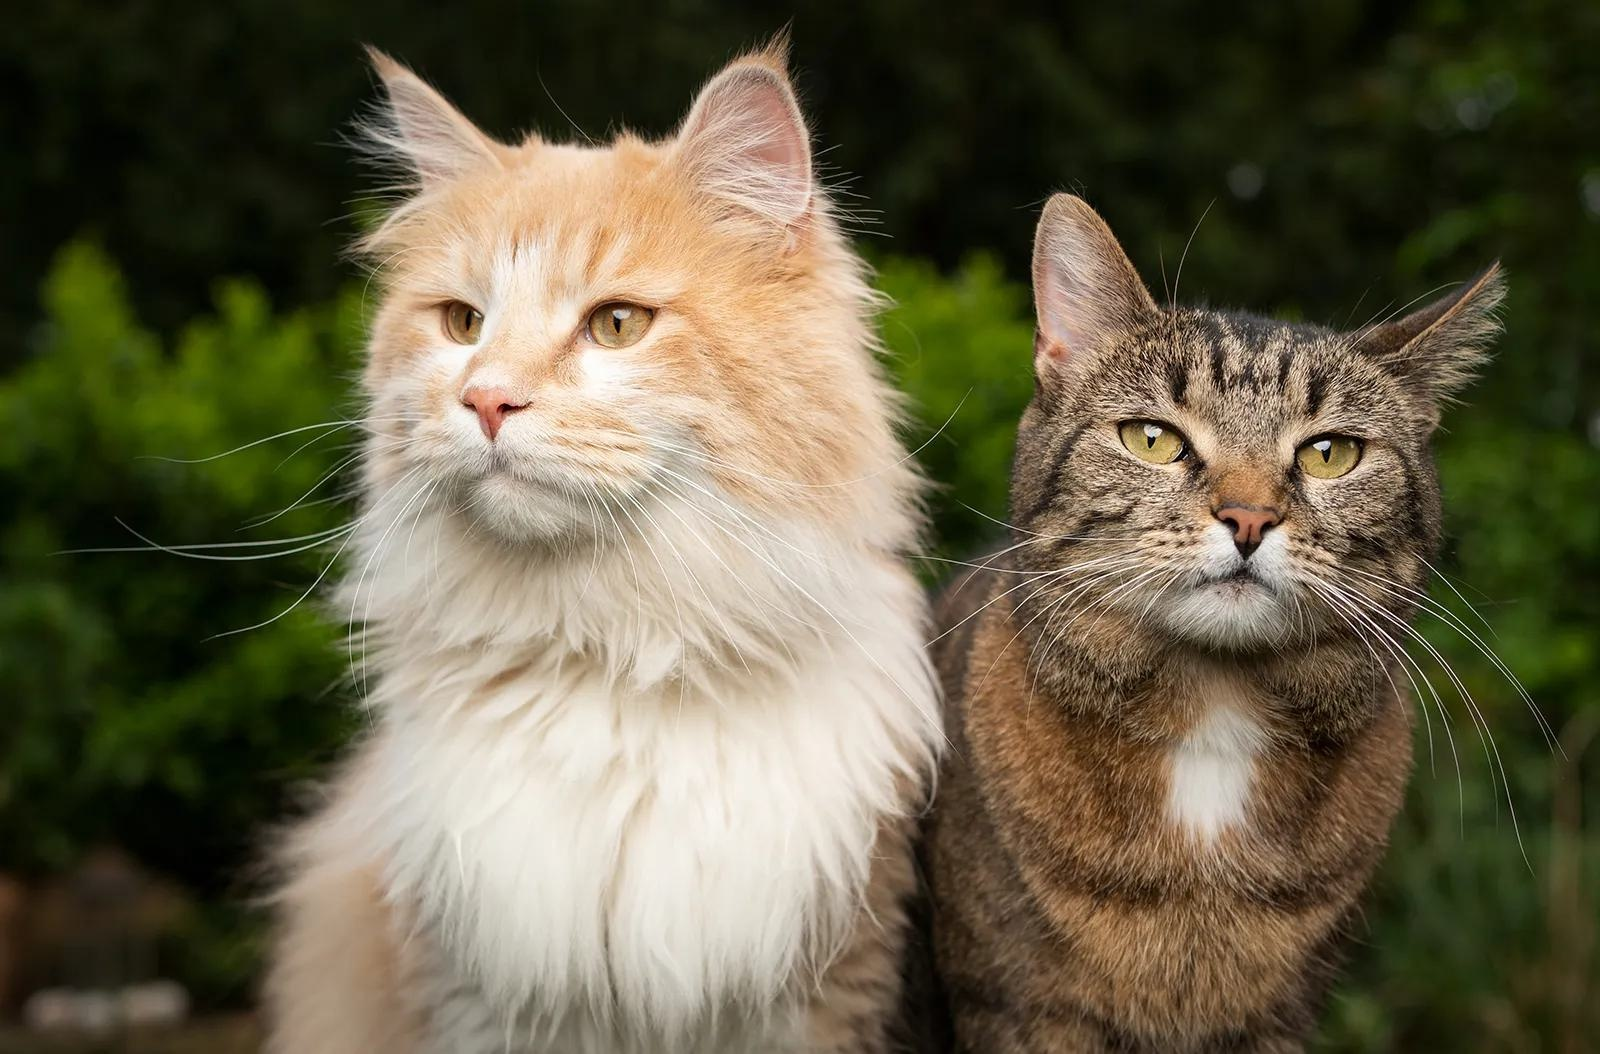apricot: (62, 24, 959, 1050), (914, 188, 1555, 1052)
banana: (56, 24, 958, 1050)
cat: (49, 22, 955, 1052), (913, 188, 1562, 1052)
grapes: (62, 26, 967, 1049), (912, 191, 1558, 1050)
melon: (245, 26, 956, 1050), (909, 189, 1558, 1050)
